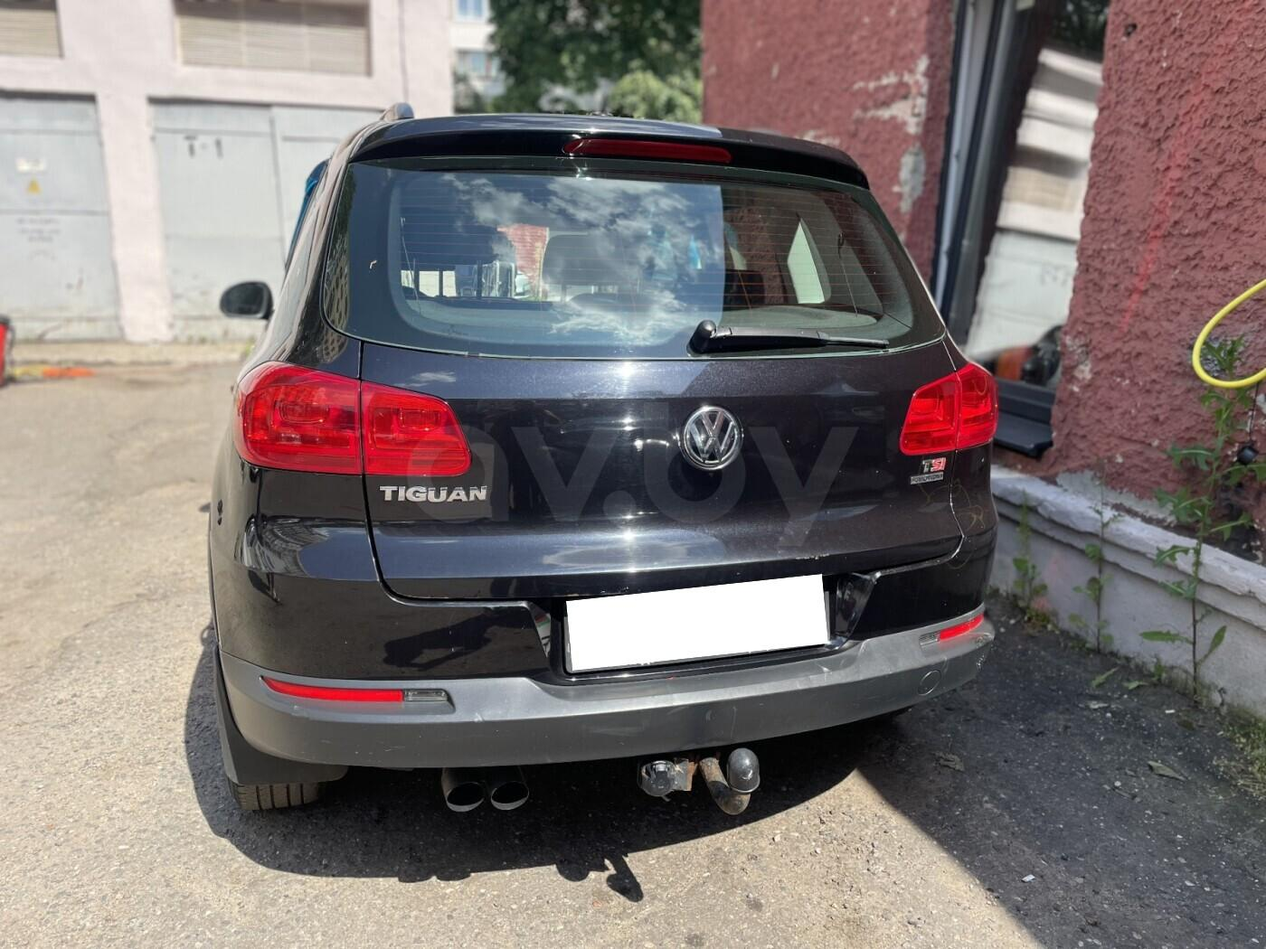Tiguan_2011-2018: (199, 108, 1004, 830)
